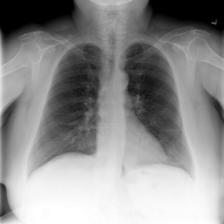normal: (21, 33, 199, 181)
